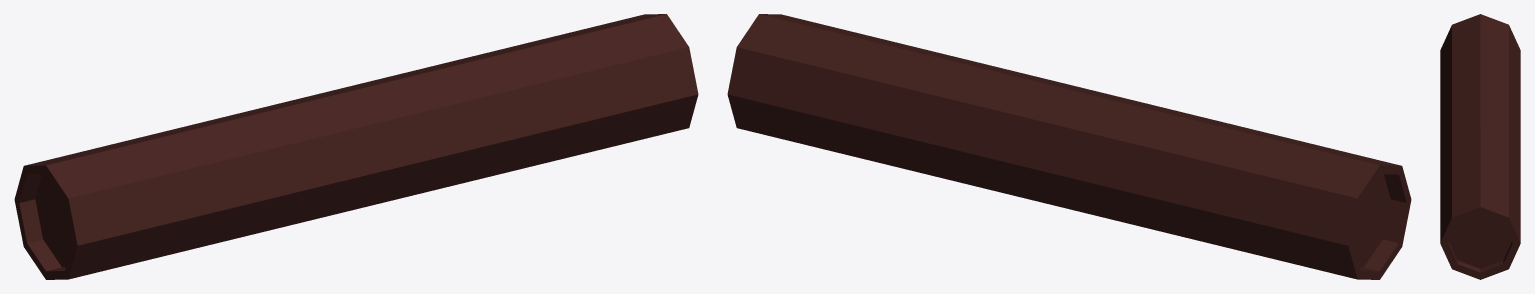
File: dead log.fbx
3 renders of one model, left to right at view 1: azimuth 30°, elevation 25°; view 2: azimuth 150°, elevation 25°; view 3: azimuth 270°, elevation 25°, orthographic. The views are drawn at different scales.
Parts seen in each view (by area): view 1: Cylinder; view 2: Cylinder; view 3: Cylinder.
Boxes of the visible parts, x1,y1,x2,y2 form: Cylinder: (14, 14, 698, 279); Cylinder: (727, 14, 1411, 279); Cylinder: (1440, 14, 1520, 279).
Size of the model in its own units: 1135 by 200 by 200.
